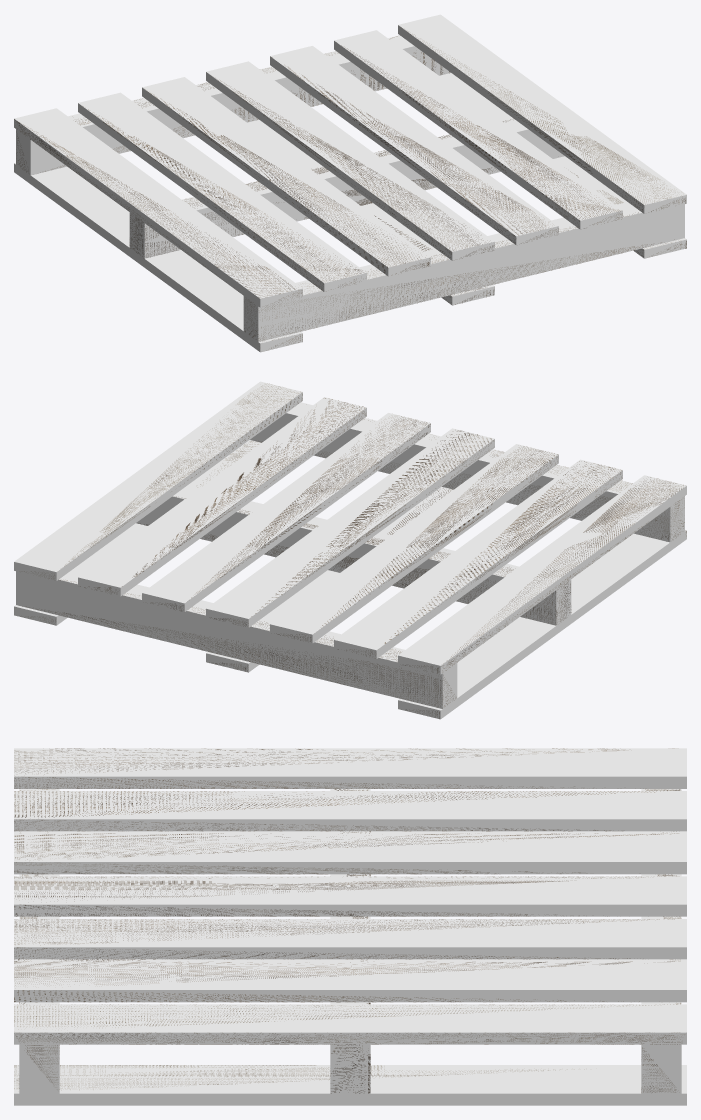
Rendered from pallet.glb.
The picture shows the model from 3 angles, top to bottom: view 1: azimuth 30°, elevation 25°; view 2: azimuth 150°, elevation 25°; view 3: azimuth 270°, elevation 25°; orthographic projection. The views are drawn at different scales.
Parts seen in each view (by area): view 1: Pallet01; view 2: Pallet01; view 3: Pallet01.
Boxes of the visible parts, x1=… form: Pallet01: x1=14, y1=14, x2=686, y2=352; Pallet01: x1=14, y1=381, x2=686, y2=719; Pallet01: x1=14, y1=748, x2=686, y2=1105.
Size of the model in its own units: 125 by 15 by 125.
Materials: 2 (1 with a texture image).
